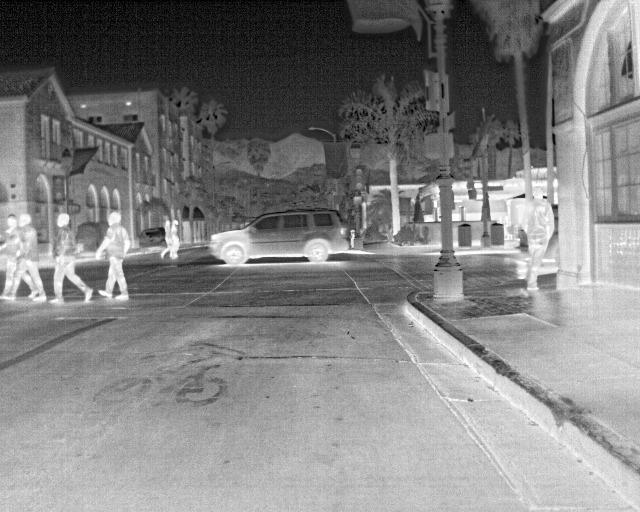bicycle: (206, 207, 352, 266), (136, 226, 168, 253)
empty: (48, 210, 94, 304), (517, 185, 554, 292), (93, 211, 131, 302), (10, 212, 46, 302), (0, 217, 18, 300), (159, 218, 174, 260), (170, 219, 182, 261)
